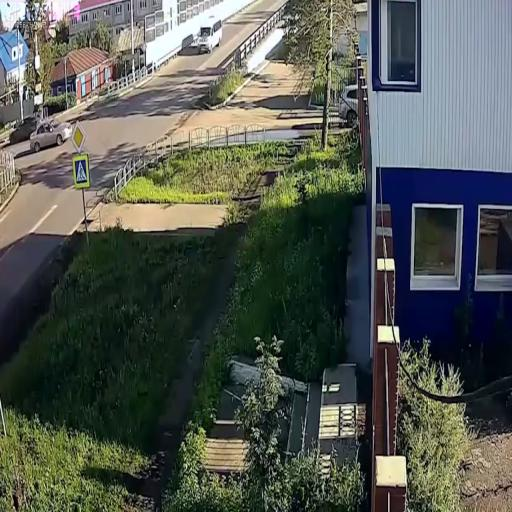小汽车: (196, 14, 226, 56), (29, 122, 73, 149)
